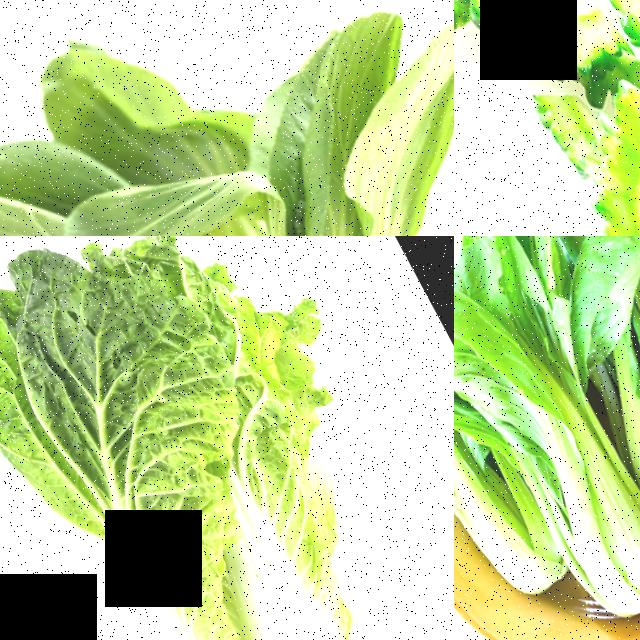bitter gourd: (454, 0, 640, 236)
bok choy: (118, 0, 454, 236), (454, 236, 640, 640), (507, 236, 640, 565), (0, 54, 233, 236), (454, 327, 545, 623)
cabbage: (0, 236, 454, 640)
